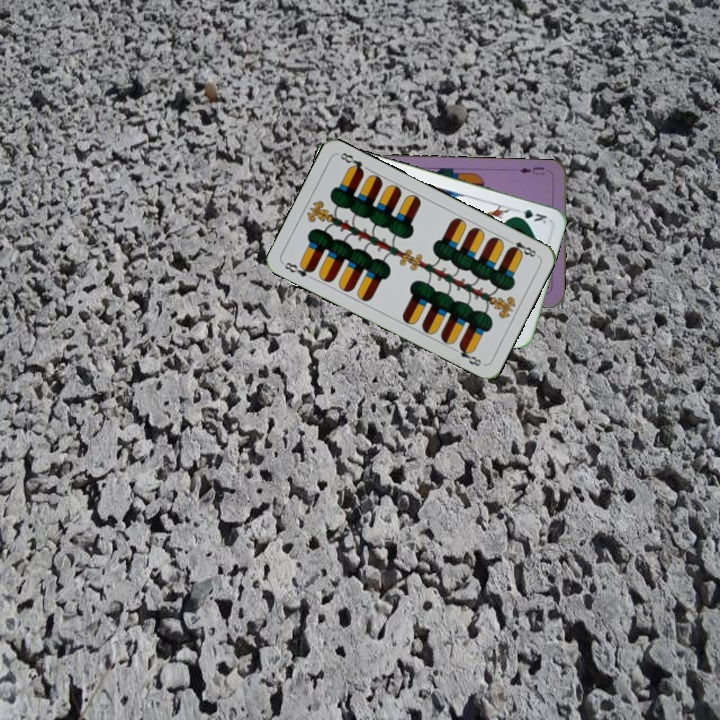E8: (503, 235, 541, 260), (279, 258, 317, 280)
EU: (516, 163, 547, 177)
GK: (510, 205, 550, 226)
